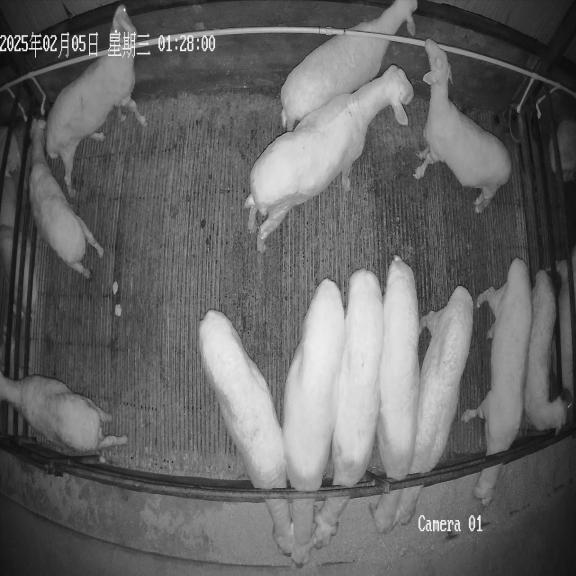drinking: (29, 120, 104, 278)
eating: (199, 310, 293, 556), (312, 269, 384, 549), (395, 286, 473, 524), (282, 278, 344, 567), (461, 258, 532, 506), (370, 256, 419, 533)
stand: (244, 65, 413, 252), (46, 4, 146, 194), (280, 0, 417, 130), (414, 39, 511, 213), (0, 373, 126, 453), (524, 270, 567, 432)
